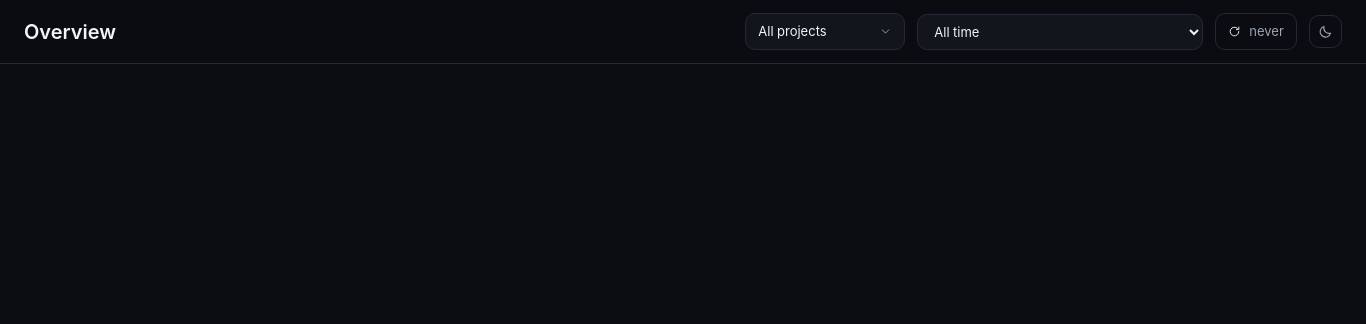
Test: ⚠️ regression — "I select something but it appears I am unselecting it" › ⚠️ never renders "all projects" as every row ticked — "all" is its own checked row
The width and height of the screenshot is (1366, 324).
Click the button with test id "project-filter".
click(825, 32)  # box [745,13,905,50]
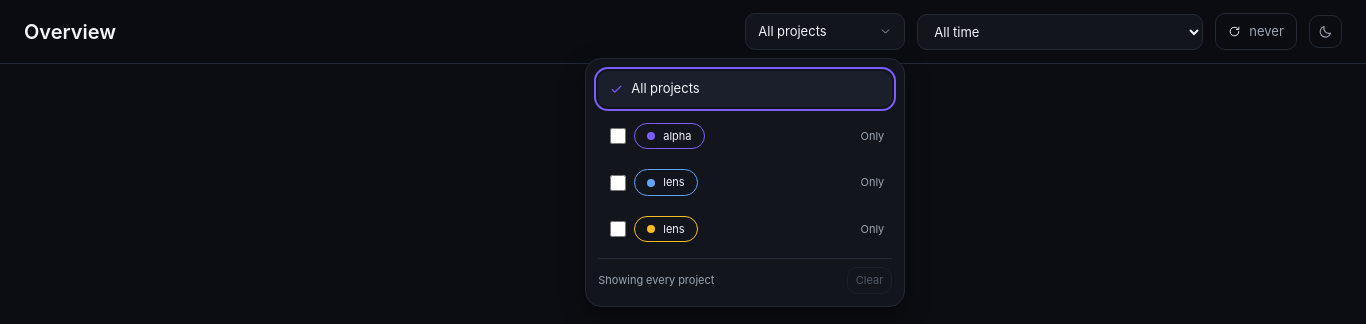
Now the button with test id "project-filter-all" is shown, box [598,71,892,107]
Now the text with test id "project-filter-summary" reads "Showing every project", box [598,273,714,287]
